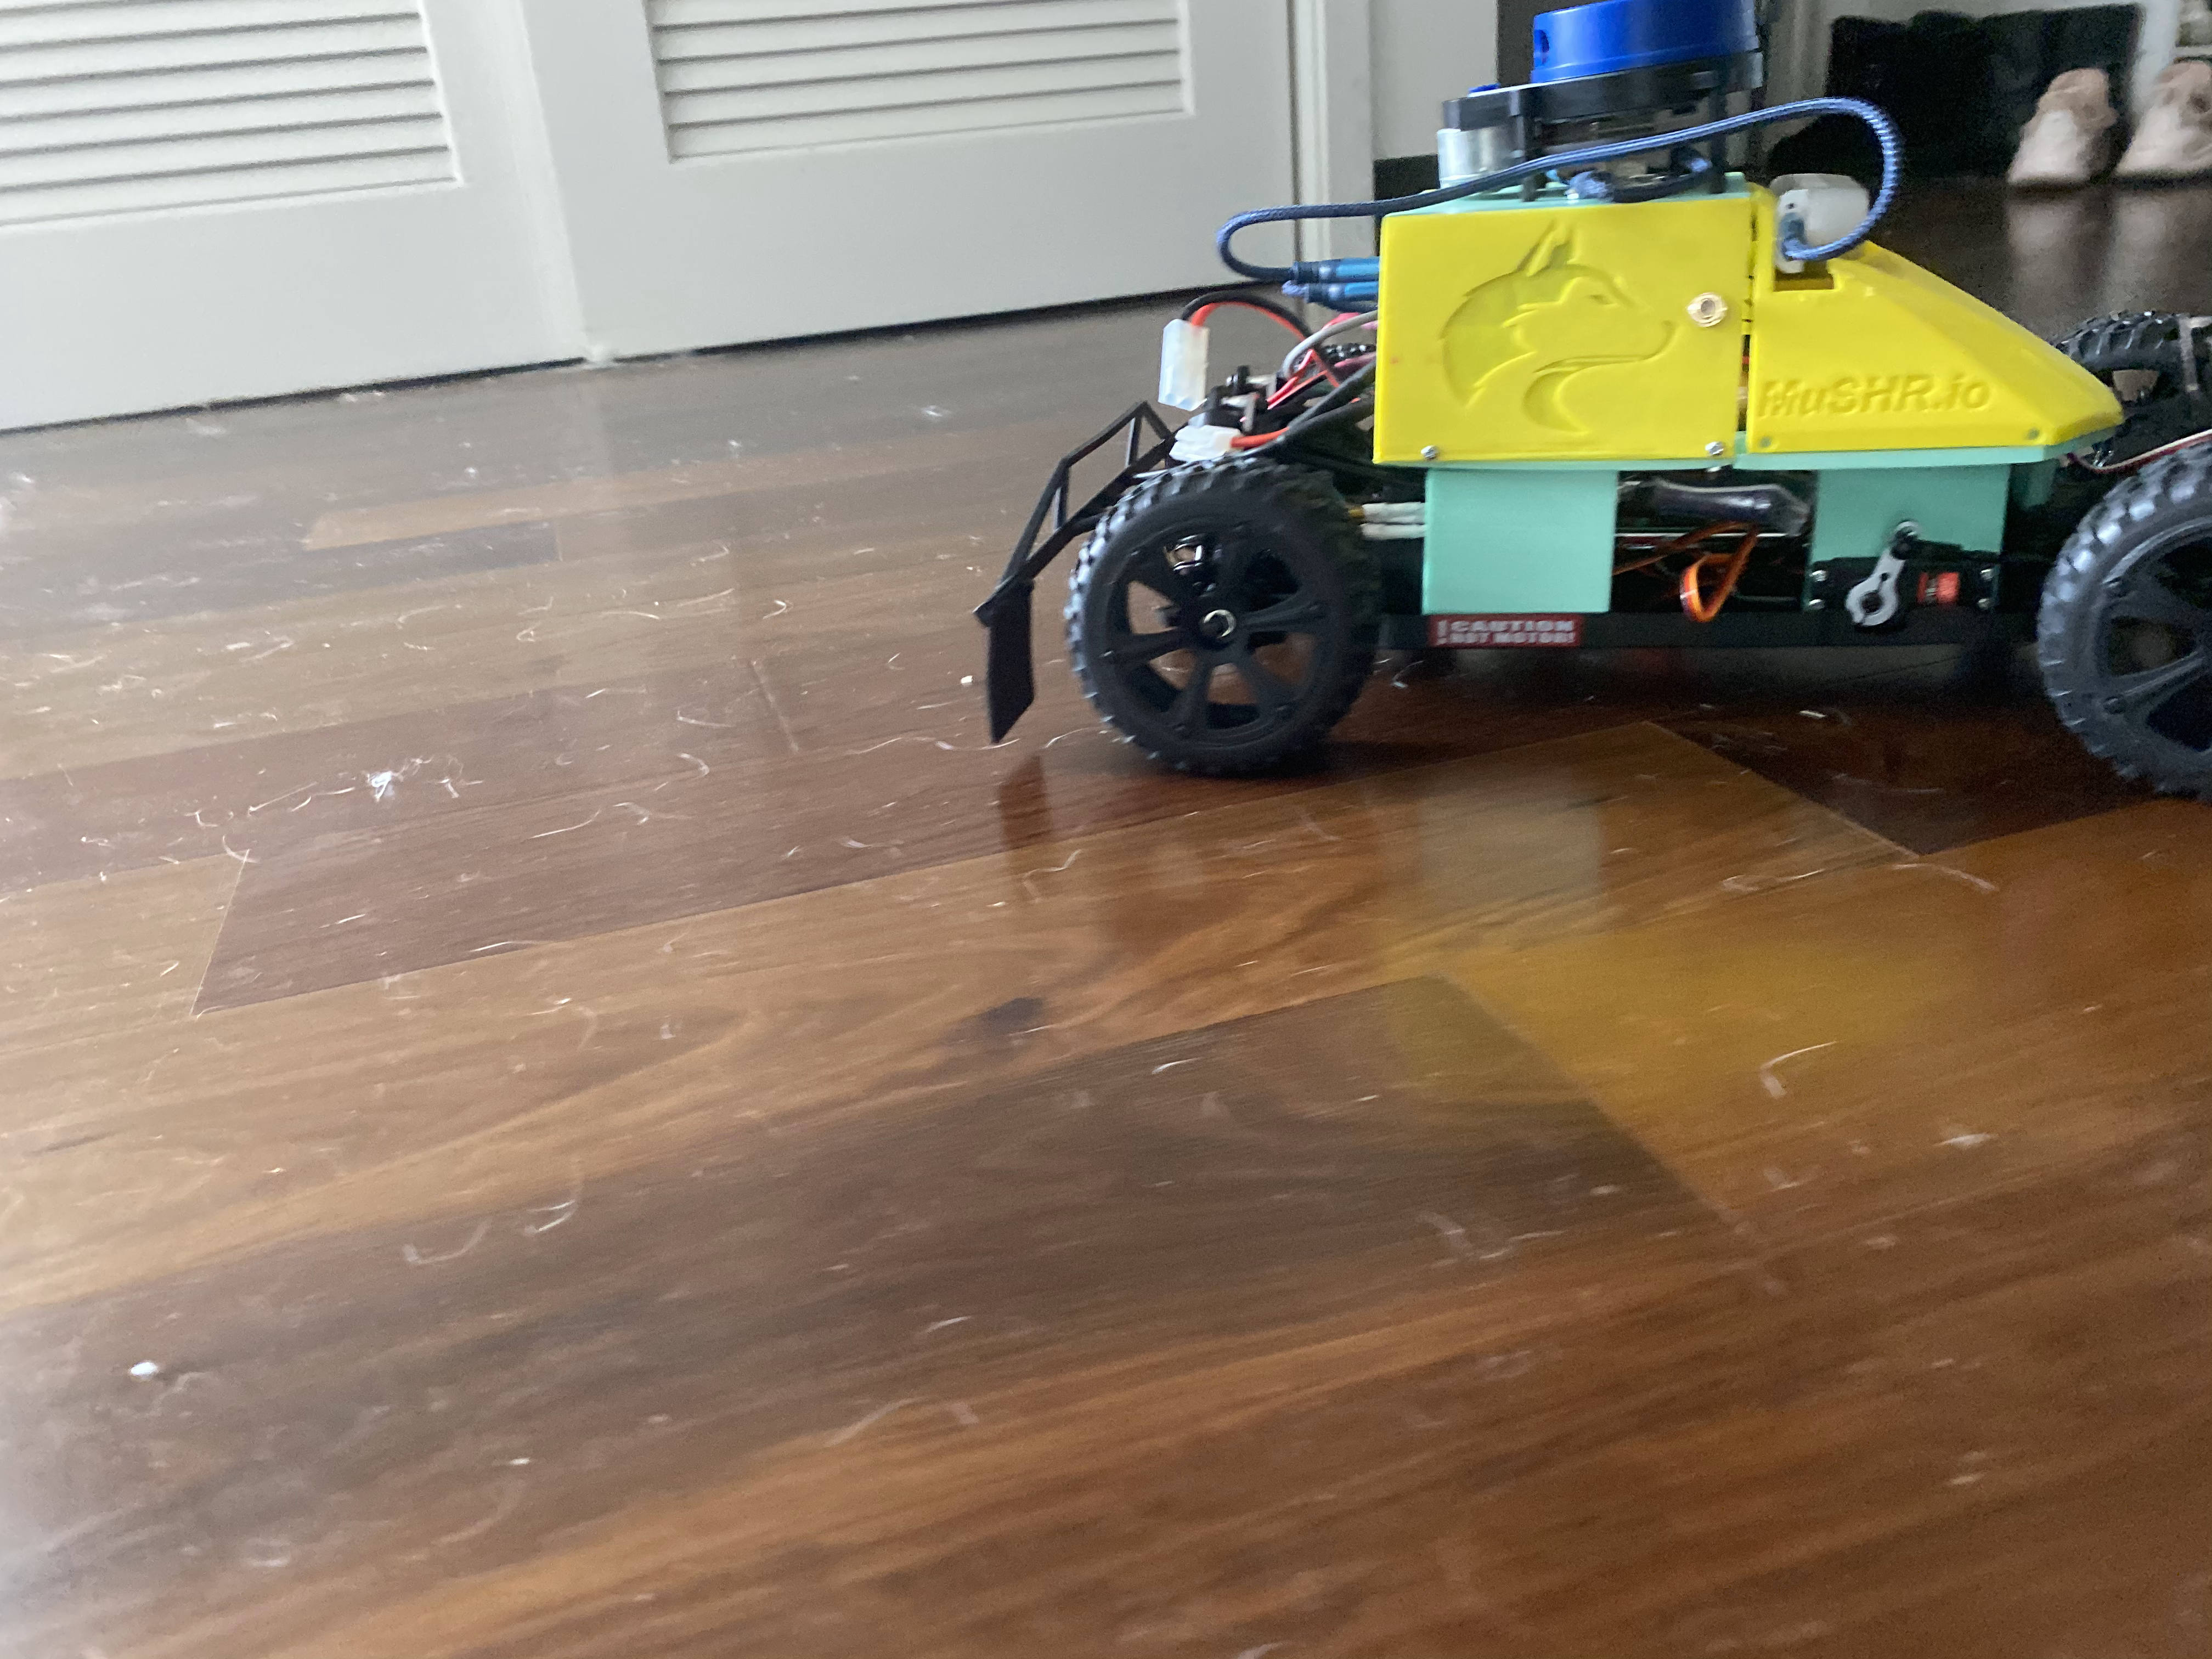mushr_car: (958, 3, 2212, 793)
